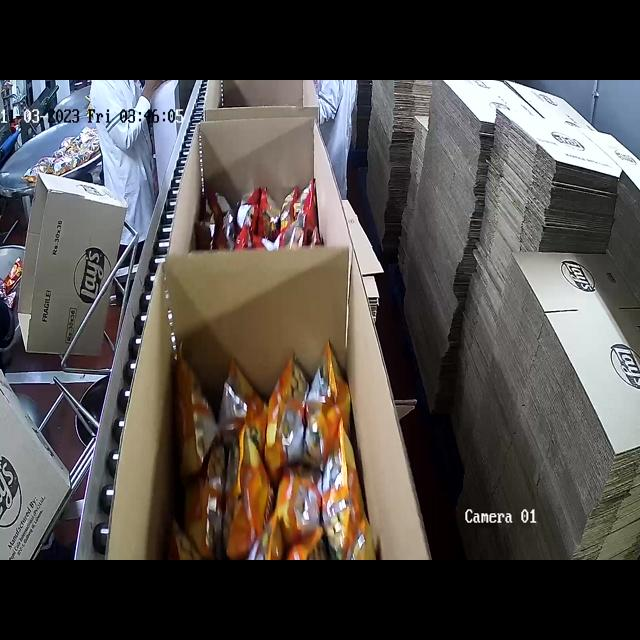cheese: (174, 352, 369, 560)
masala: (195, 172, 328, 245)
